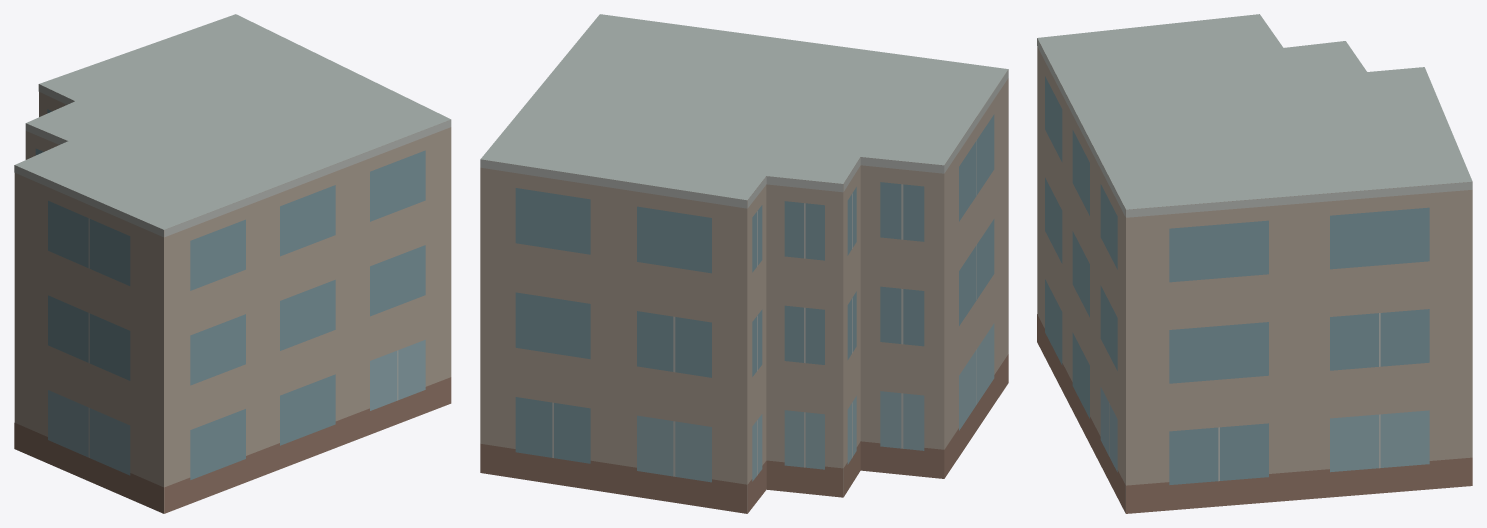
File: survey-upis-32692443.glb
3 renders of one model, left to right at view 1: azimuth 30°, elevation 25°; view 2: azimuth 150°, elevation 25°; view 3: azimuth 270°, elevation 25°, orthographic. The views are drawn at different scales.
Parts seen in each view (by area): view 1: survey-upis-32692443.tmp; view 2: survey-upis-32692443.tmp; view 3: survey-upis-32692443.tmp.
Boxes of the visible parts, x1=… form: survey-upis-32692443.tmp: x1=14, y1=14, x2=451, y2=513; survey-upis-32692443.tmp: x1=480, y1=14, x2=1008, y2=513; survey-upis-32692443.tmp: x1=1037, y1=14, x2=1472, y2=513.
Bounding box in the file's own units: 12.63 × 9.15 × 11.88.
